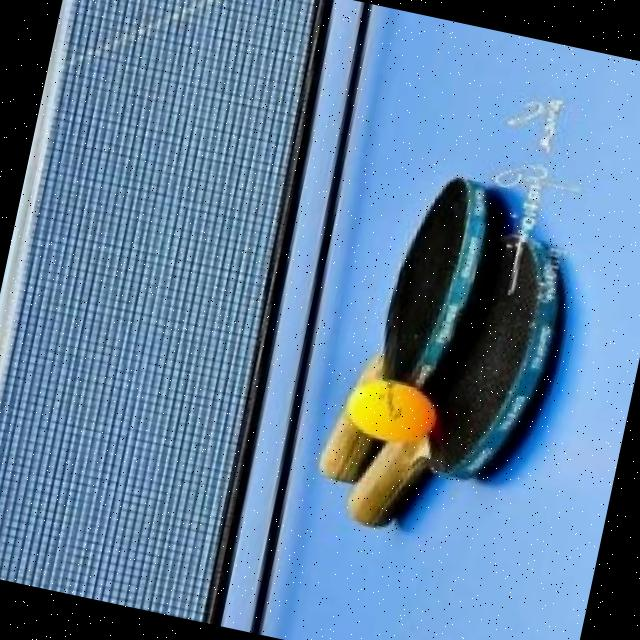ping-pong-ball: (338, 368, 443, 452)
